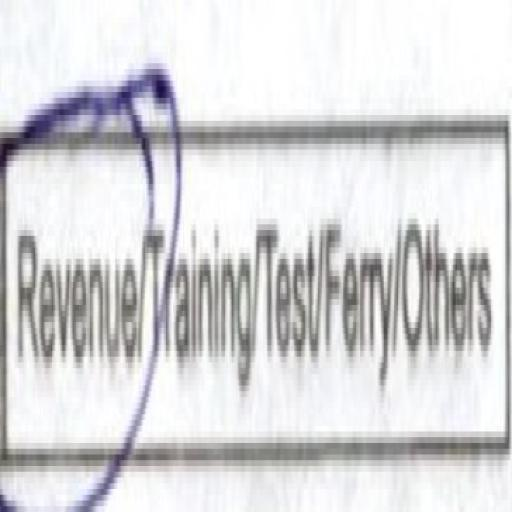check: (0, 52, 145, 512)
